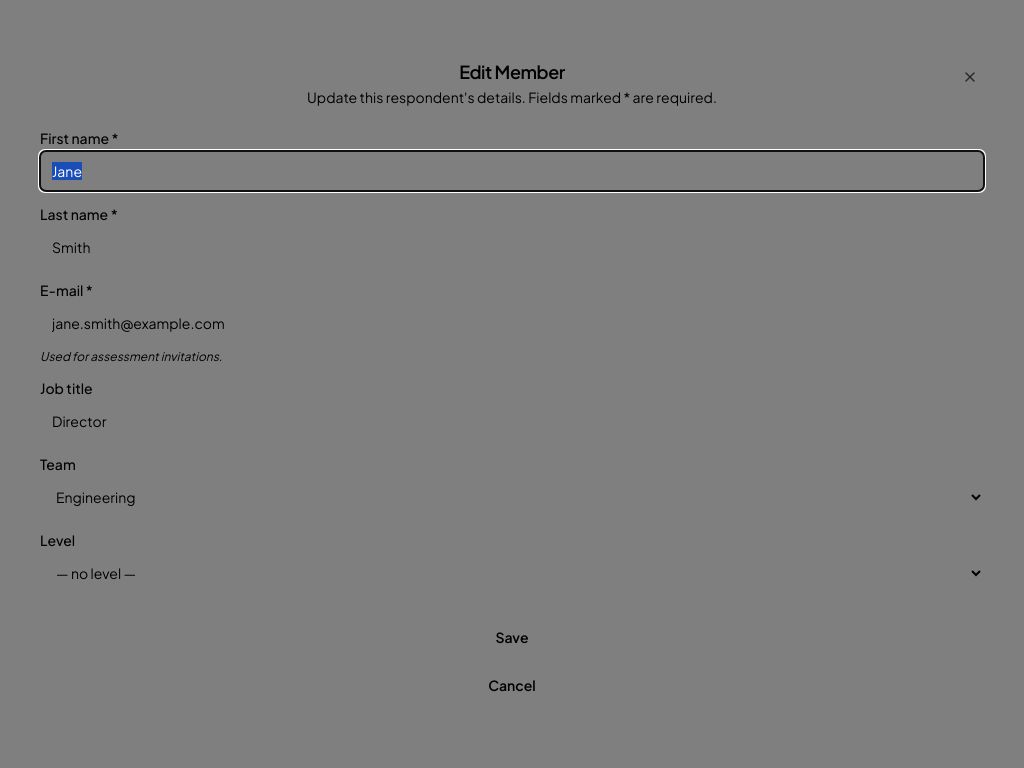
Test: EditMemberModal › responsive validation collects every invalid field into linked summary and inline errors
Clear the field labelled "First name *" at x=512, y=171, box [40,151,984,191]
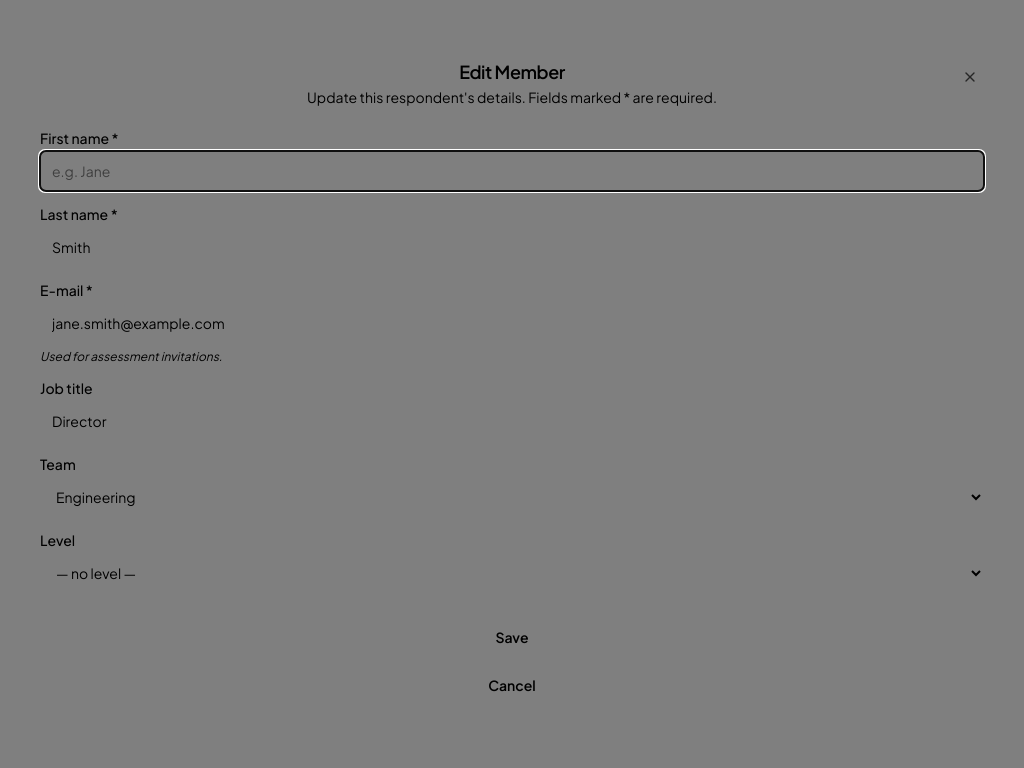
Clear the field labelled "Last name *" at x=512, y=247, box [40,227,984,267]
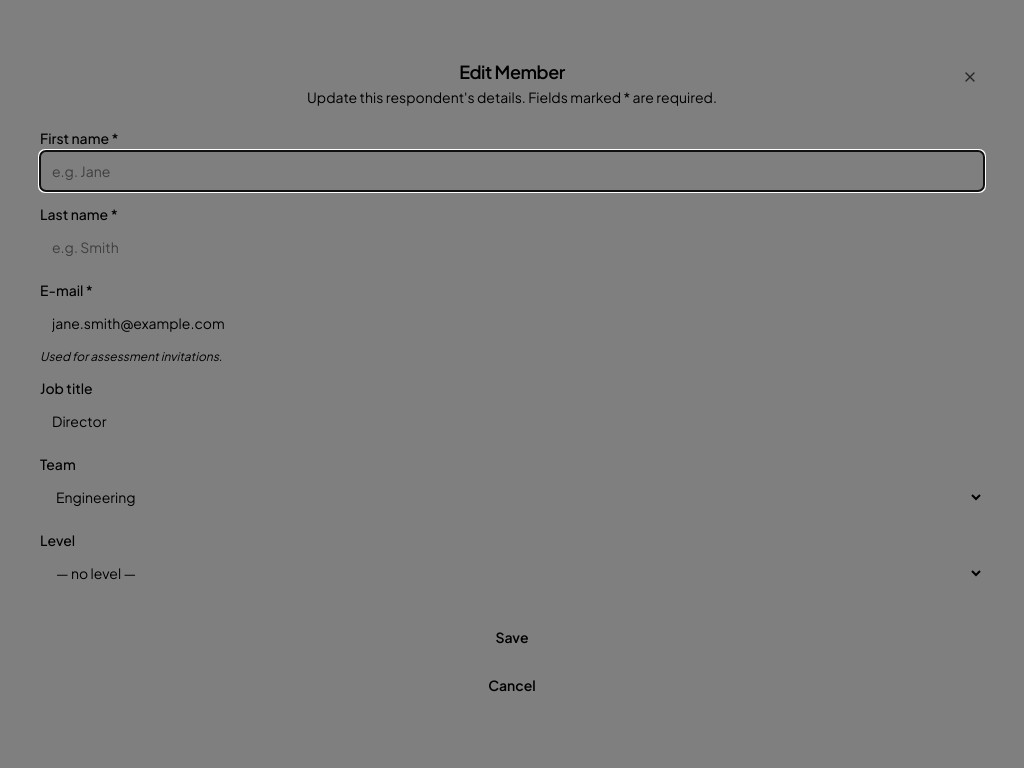
Clear the field labelled "E-mail *" at x=512, y=323, box [40,303,984,343]
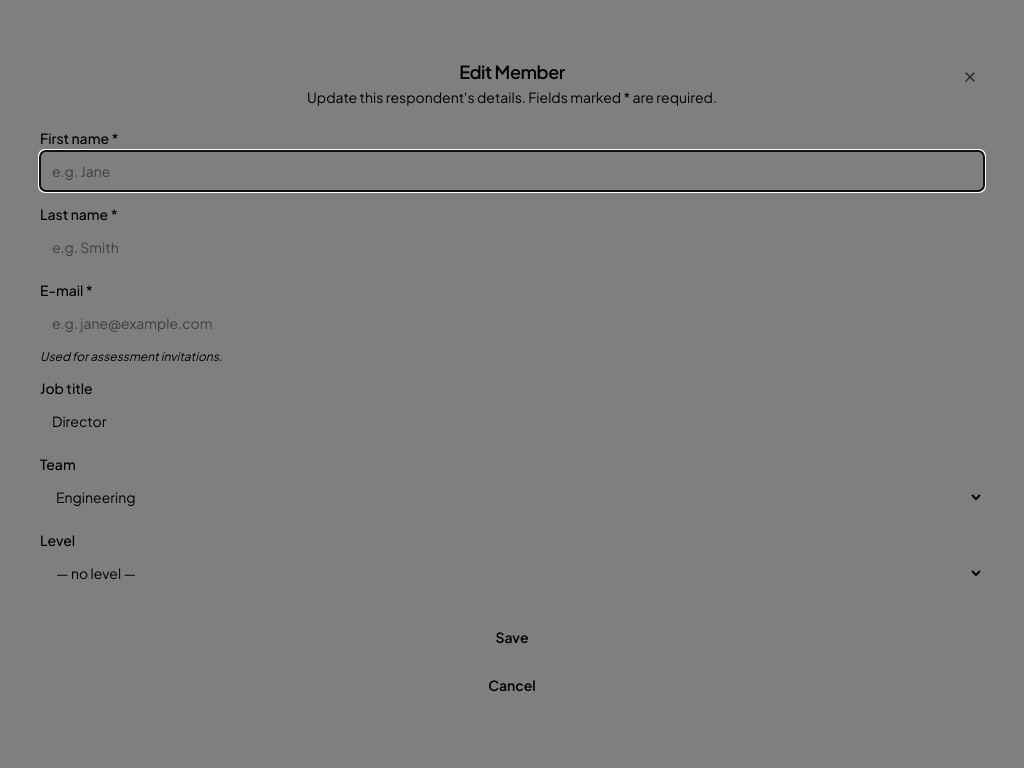
Click the button "Save" at x=512, y=637, box [40,617,984,657]
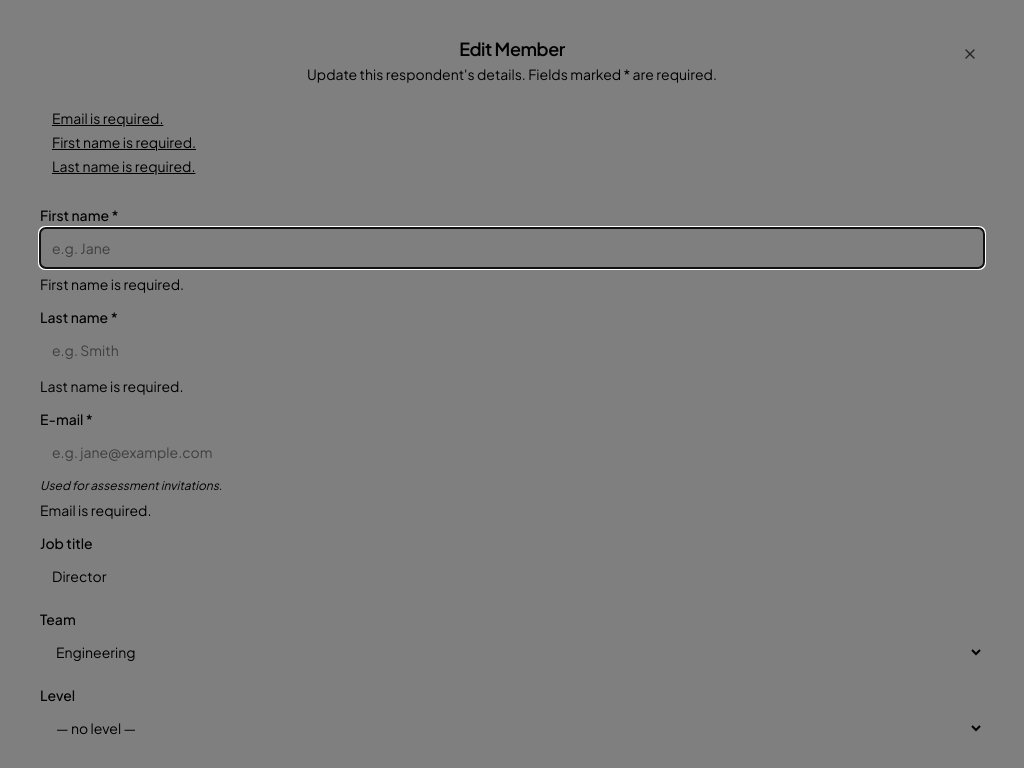
Now the number of links "First name is required." is 2, box [52,133,196,151]; [40,275,184,293]
Now the number of links "Last name is required." is 2, box [52,157,195,175]; [40,377,183,395]
Now the number of links "Email is required." is 2, box [52,109,163,127]; [40,501,151,519]
